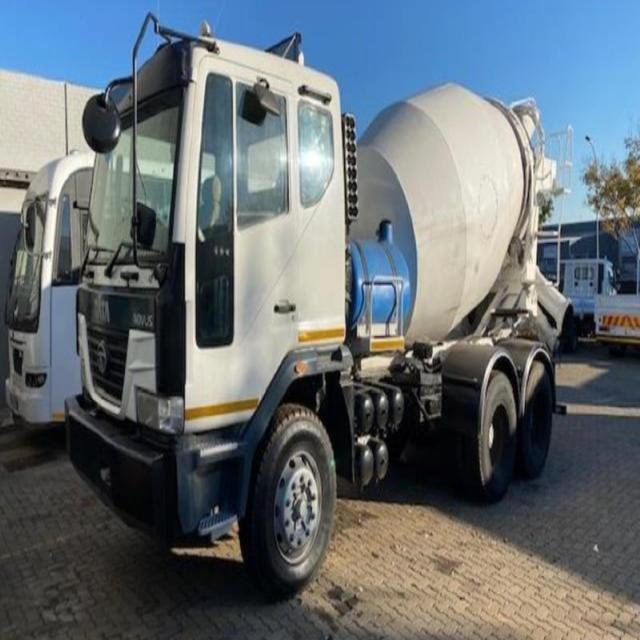Mixer Truck: (65, 35, 574, 598)
